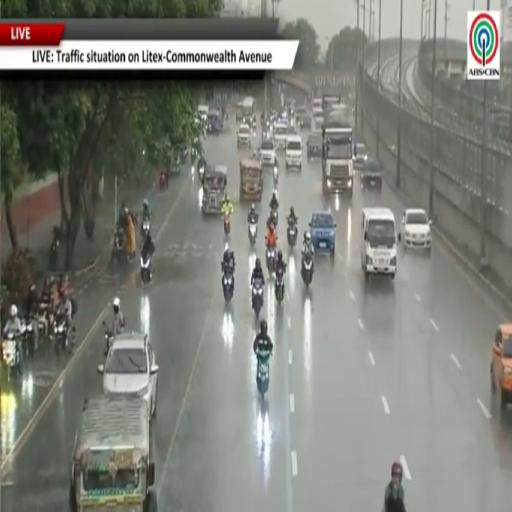car: (98, 332, 158, 415), (491, 324, 511, 410), (402, 208, 431, 251), (309, 211, 336, 254), (360, 158, 382, 190), (285, 135, 302, 169), (259, 138, 276, 166), (353, 143, 368, 169), (307, 134, 321, 159), (237, 123, 252, 146), (296, 106, 311, 127), (288, 124, 296, 135)
jeepney: (70, 395, 157, 511), (202, 166, 227, 214), (240, 159, 263, 201), (243, 96, 256, 127), (207, 109, 223, 134), (236, 101, 244, 124)
motorcycle: (2, 332, 19, 380), (256, 351, 270, 397), (22, 316, 37, 357), (54, 315, 69, 355), (48, 227, 61, 270), (111, 230, 127, 264), (301, 253, 314, 287), (102, 322, 114, 357), (252, 280, 263, 317), (37, 307, 48, 343), (140, 254, 152, 284), (48, 239, 59, 271), (222, 269, 233, 301), (274, 270, 284, 303), (287, 219, 297, 248), (266, 247, 275, 273), (248, 222, 257, 246), (141, 218, 150, 237), (159, 171, 168, 189), (271, 208, 278, 228), (224, 214, 230, 236), (198, 164, 205, 182), (191, 147, 199, 161), (273, 165, 278, 186)
truck: (322, 112, 353, 197), (322, 94, 342, 117)
